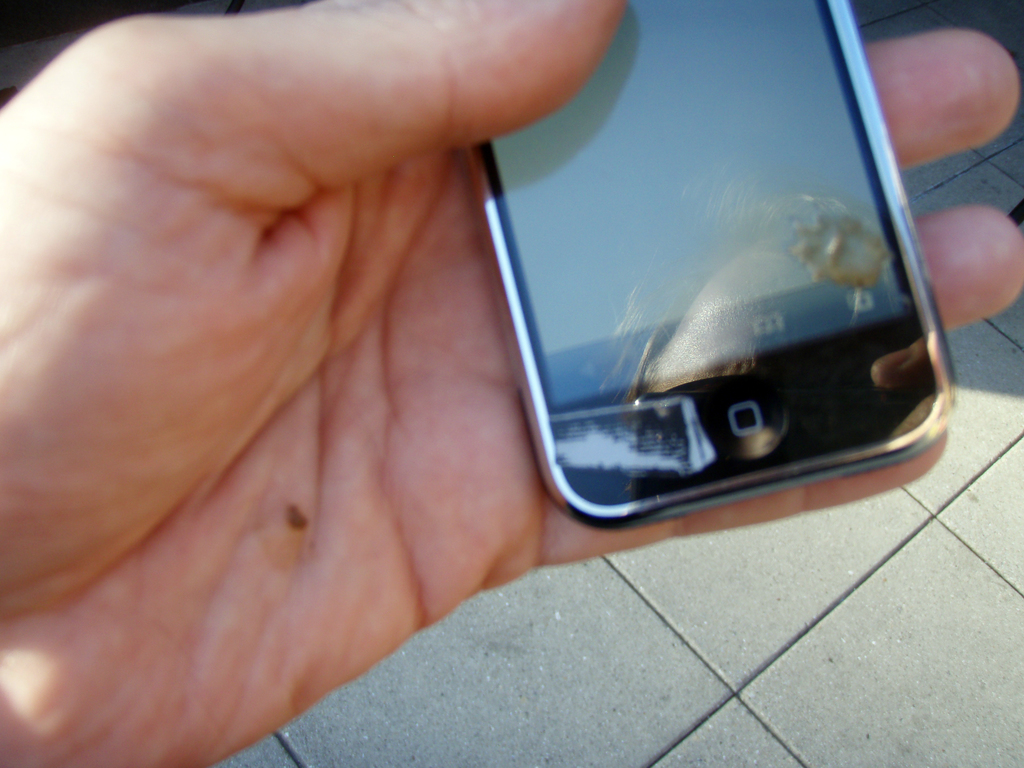Mobile-phone: (445, 0, 960, 524)
